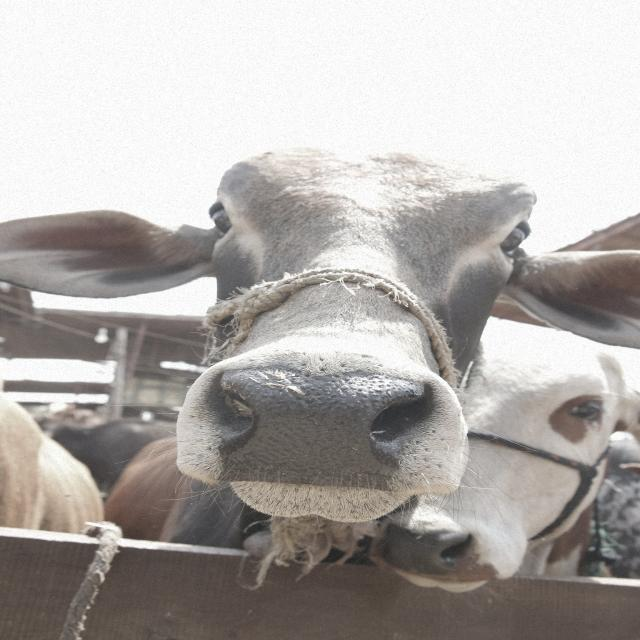muzzles: (200, 351, 449, 493)
